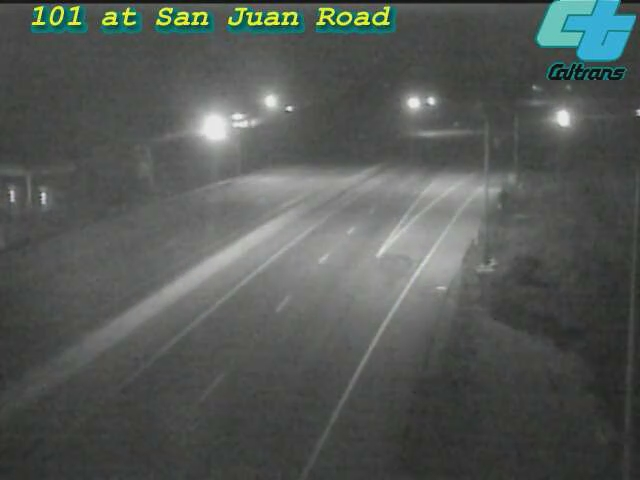vehicle: (536, 95, 586, 145)
